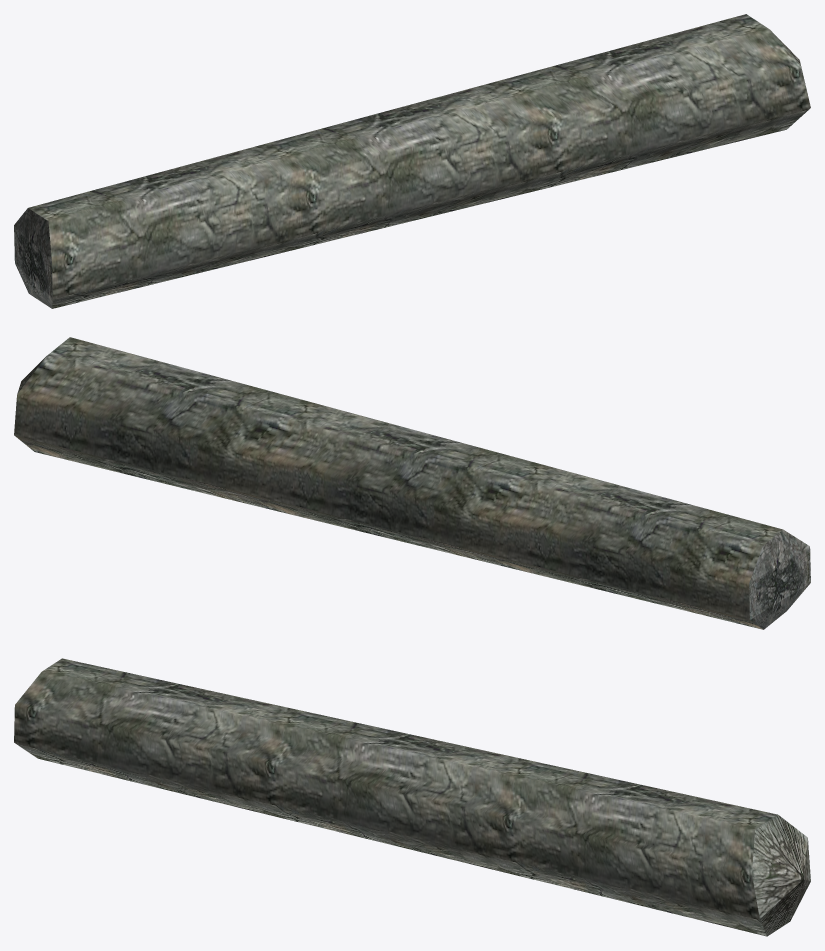
The model's file is mucai_famu_jx_02.fbx.
3 renders of one model, top to bottom at view 1: azimuth 30°, elevation 25°; view 2: azimuth 150°, elevation 25°; view 3: azimuth 330°, elevation 25°, orthographic.
Parts seen in each view (by area): view 1: mucai_famu_jx_02; view 2: mucai_famu_jx_02; view 3: mucai_famu_jx_02.
Part boxes in pixels (x1,y1,x2,y2): mucai_famu_jx_02: (14, 14, 810, 308); mucai_famu_jx_02: (14, 337, 810, 629); mucai_famu_jx_02: (14, 658, 810, 936).
Size of what is drawn, in the model's own units: 598 by 77.09 by 77.09.
Materials: 1 (1 with a texture image).
